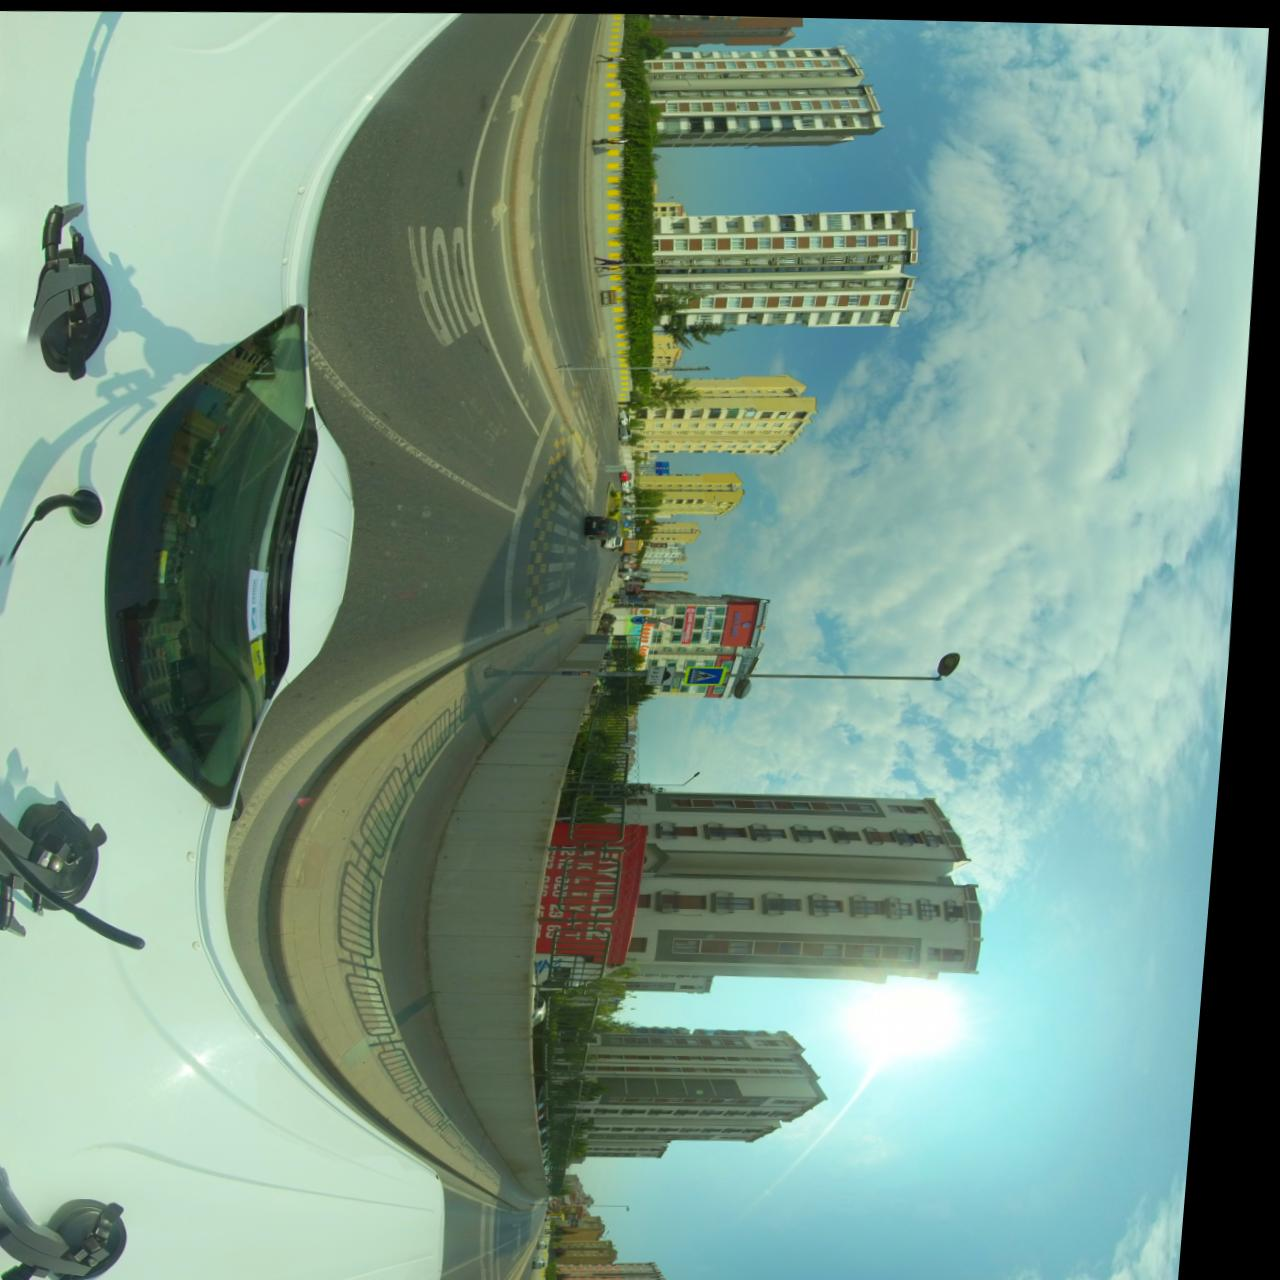SignStore: (647, 620, 665, 653), (692, 605, 706, 640), (712, 604, 724, 639)
